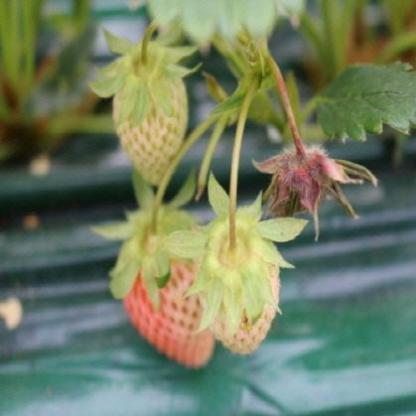Strawberry_Gray_Mold: (252, 128, 379, 244)
